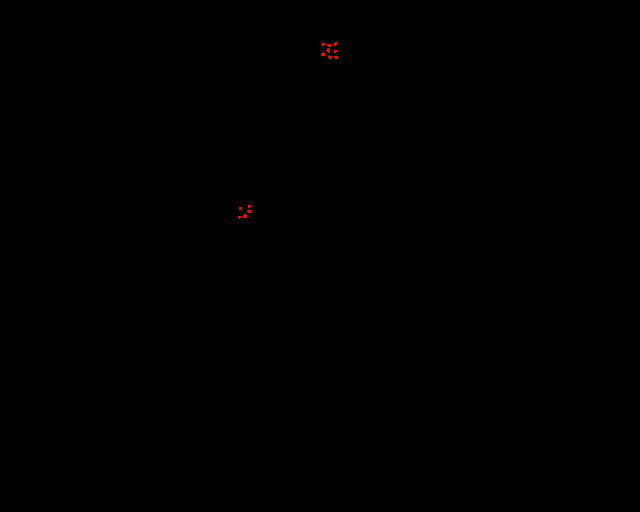Target: (326, 48, 330, 53), (321, 52, 325, 56), (328, 55, 332, 59), (247, 209, 251, 213), (243, 214, 247, 218), (334, 42, 337, 46), (321, 43, 325, 46), (327, 44, 331, 47), (334, 56, 338, 59), (334, 50, 337, 53), (248, 205, 251, 208), (239, 207, 242, 210), (238, 216, 241, 219)
